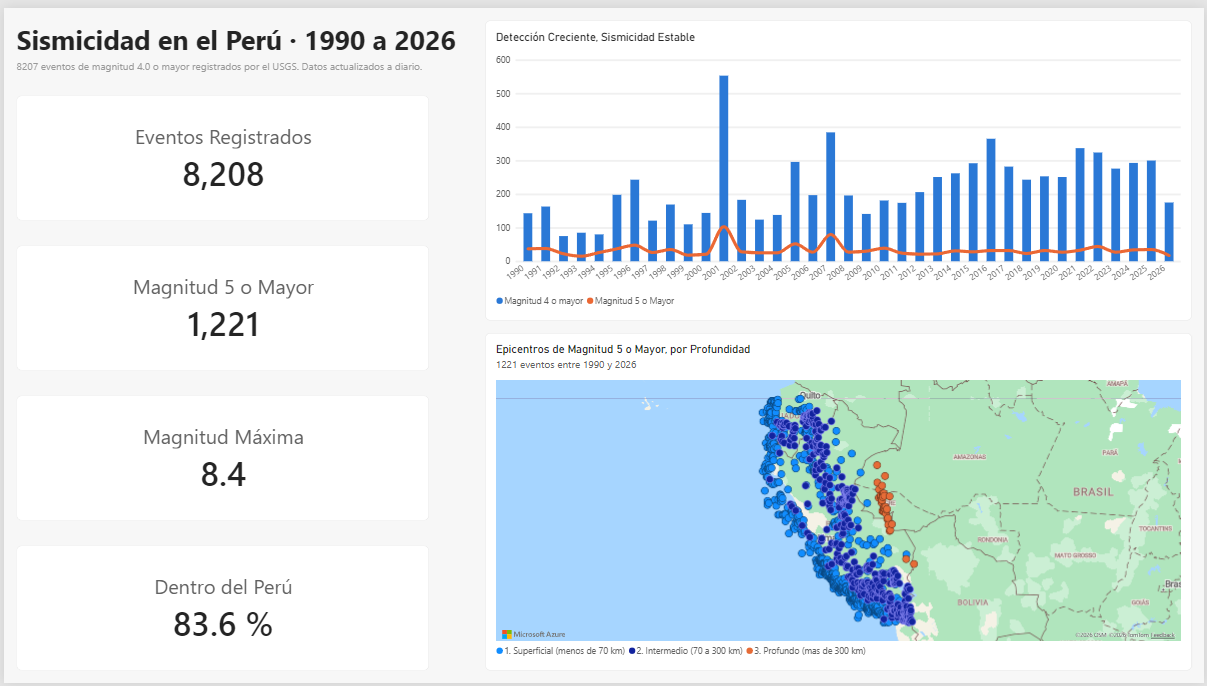

Layout of this report page (visuals, bound fields, positions):
{"tool":"powerbi","page":{"name":"Panorama","canvas":[1920,1080],"ordinal":0},"visuals":[{"type":"textbox","box":[20,20,732,62],"z":0},{"type":"textbox","box":[20,82,664,30],"z":1000},{"type":"cardVisual","fields":{"Data":["sismo.Eventos Etiqueta"]},"box":[20,140,660,200],"z":2000},{"type":"cardVisual","fields":{"Data":["sismo.Eventos M5 Etiqueta"]},"box":[20,380,660,200],"z":3000},{"type":"cardVisual","fields":{"Data":["sismo.Magnitud Maxima"]},"box":[20,620,660,200],"z":4000},{"type":"cardVisual","fields":{"Data":["sismo.% Peru"]},"box":[20,860,660,200],"z":5000},{"type":"lineStackedColumnComboChart","title":"Detección Creciente, Sismicidad Estable","fields":{"Category":["sismo.anio"],"Y":["sismo.Eventos"],"Y2":["sismo.Eventos M5"]},"box":[770,20,1130,480],"z":6000},{"type":"azureMap","title":"Epicentros de Magnitud 5 o Mayor, por Profundidad","fields":{"Series":["sismo.rango_profundidad"],"X":["sismo.longitud"],"Y":["sismo.latitud"]},"box":[770,520,1130,540],"z":7000}]}

Visuals, with their boxes in screenshot pixels (x1, y1, x2, y2), scaled from the page's 1920x1080 canvas onto the 1207x686 screenshot:
textbox: <box>13,13,473,52</box>
textbox: <box>13,52,430,71</box>
cardVisual - sismo.Eventos Etiqueta: <box>13,89,427,216</box>
cardVisual - sismo.Eventos M5 Etiqueta: <box>13,241,427,368</box>
cardVisual - sismo.Magnitud Maxima: <box>13,394,427,521</box>
cardVisual - sismo.% Peru: <box>13,546,427,673</box>
"Detección Creciente, Sismicidad Estable" lineStackedColumnComboChart: <box>484,13,1194,318</box>
"Epicentros de Magnitud 5 o Mayor, por Profundidad" azureMap: <box>484,330,1194,673</box>
